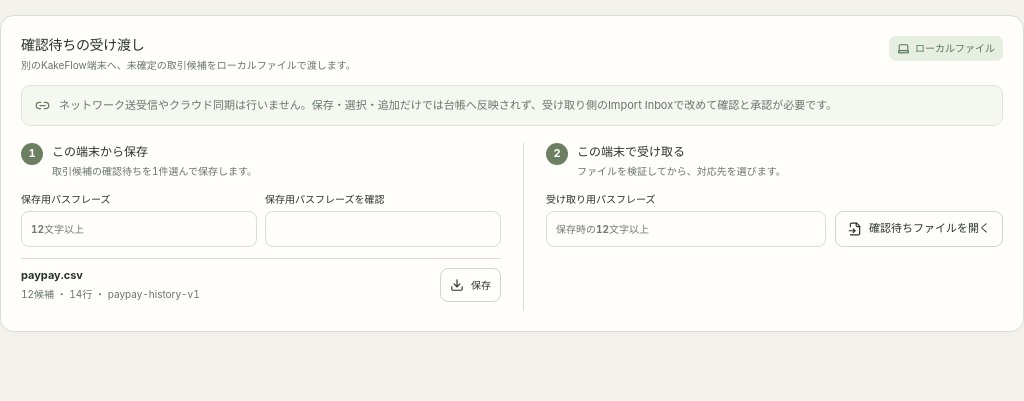
Test: PendingImportHandoffPanel › states the local-only boundary and exports only eligible candidate-review runs
Expected: the text "改めて確認と承認が必要" is shown, x1=59 y1=98 x2=837 y2=112
Expected: the text "paypay.csv" is shown, x1=21 y1=268 x2=83 y2=282
Type "long-enough-passphrase" into the password field labelled "保存用パスフレーズ" at (139, 229), box x1=21 y1=211 x2=257 y2=247
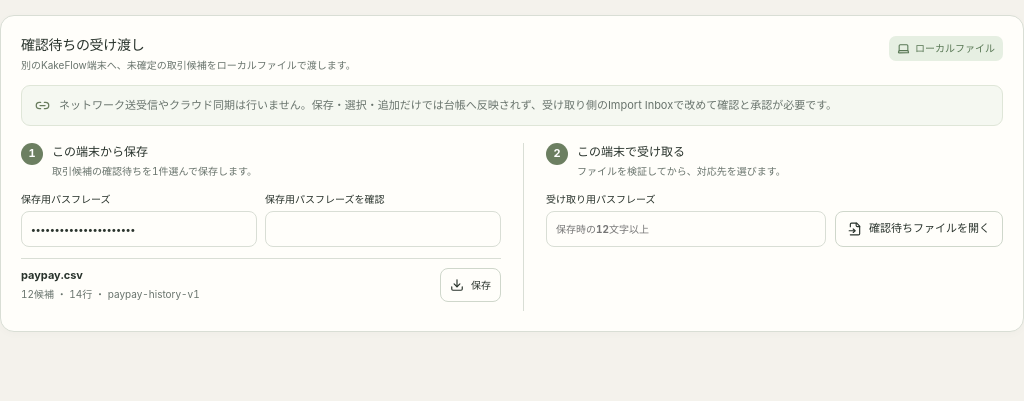
Type "long-enough-passphrase" into the password field labelled "保存用パスフレーズを確認" at (383, 229), box x1=265 y1=211 x2=501 y2=247
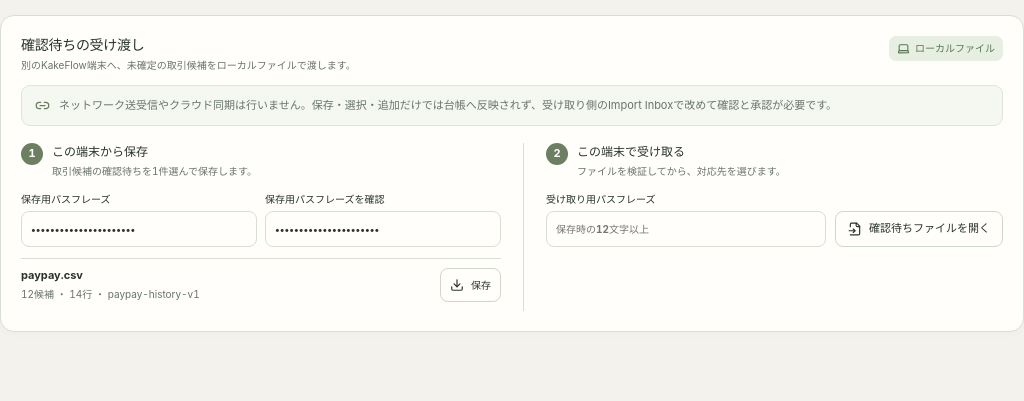
Click the button with aria-label "paypay.csvを受け渡しファイルに保存" at (470, 285), box x1=440 y1=268 x2=501 y2=302
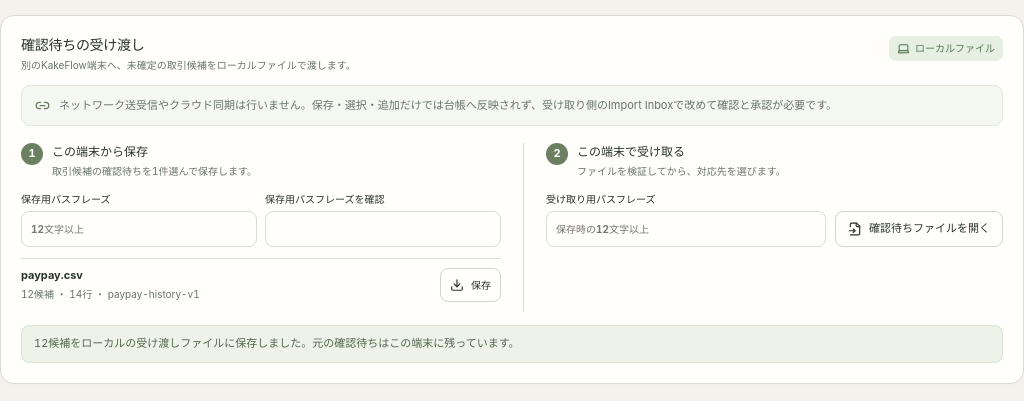
Expected: the text "12候補をローカルの受け渡しファイルに保存" is shown, x1=34 y1=336 x2=520 y2=350
